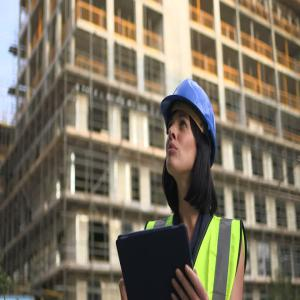blue: (163, 73, 222, 201)
